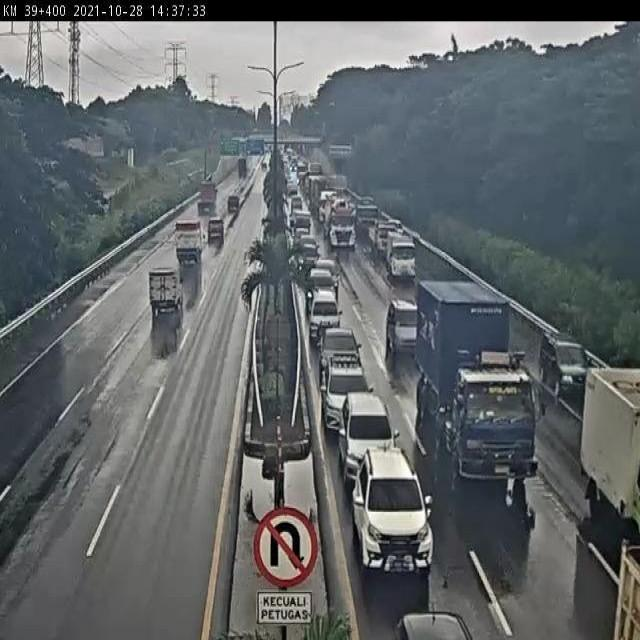big truck: (416, 281, 539, 483), (616, 541, 640, 640), (323, 196, 355, 248)
car: (353, 448, 432, 571), (341, 392, 395, 481), (539, 331, 592, 398), (323, 359, 370, 429), (388, 613, 473, 640), (320, 328, 360, 384), (385, 301, 418, 355), (308, 289, 340, 340), (150, 267, 185, 313), (307, 270, 336, 302), (298, 243, 319, 276), (316, 260, 338, 291), (208, 219, 225, 241), (227, 195, 240, 212), (300, 235, 317, 245)
small truck: (579, 369, 640, 532), (174, 222, 203, 270), (385, 232, 414, 277), (367, 220, 394, 253), (197, 183, 217, 213)
